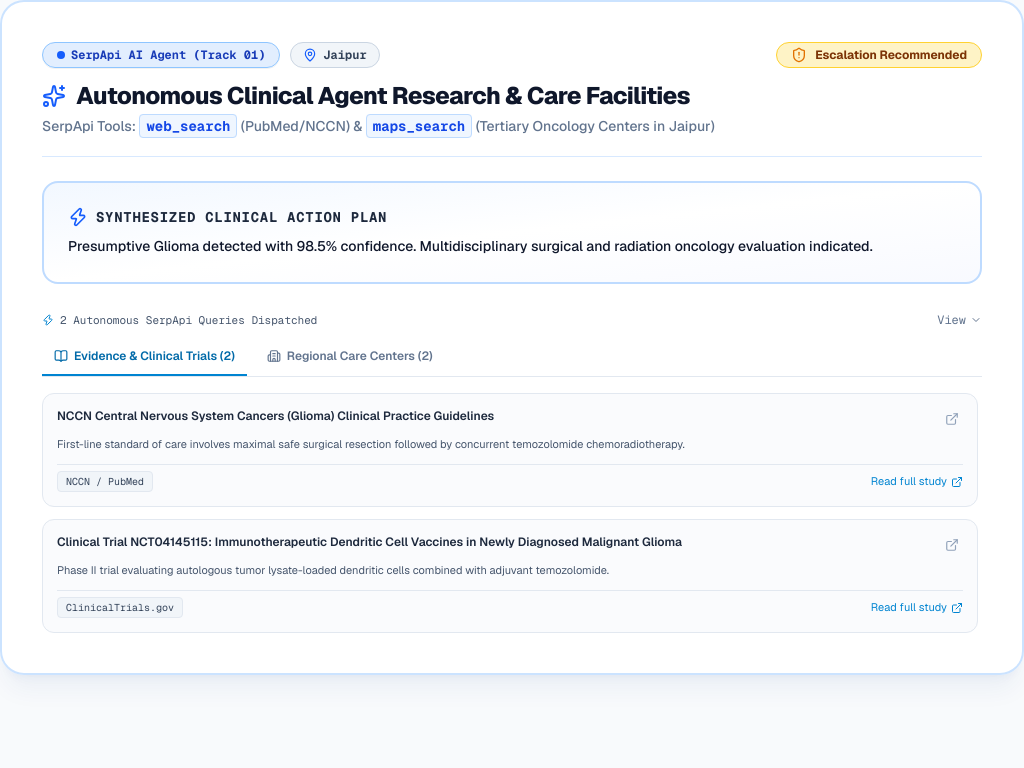
ClinicalAgentCard Component › toggles autonomous queries breakdown view
This screenshot has width=1024, height=768.
Click the text "2 Autonomous SerpApi Queries Dispatched" at (189, 320), box [60,312,317,328]
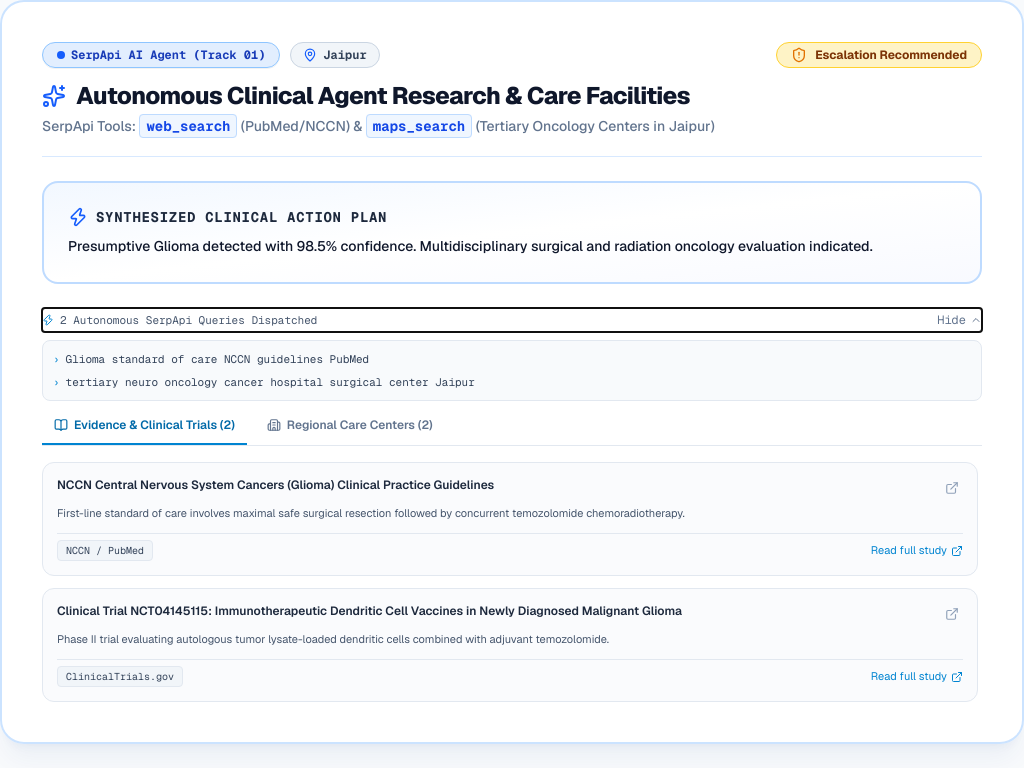
Expected: the text "Glioma standard of care NCCN guidelines PubMed" is shown, [66,351,369,368]
